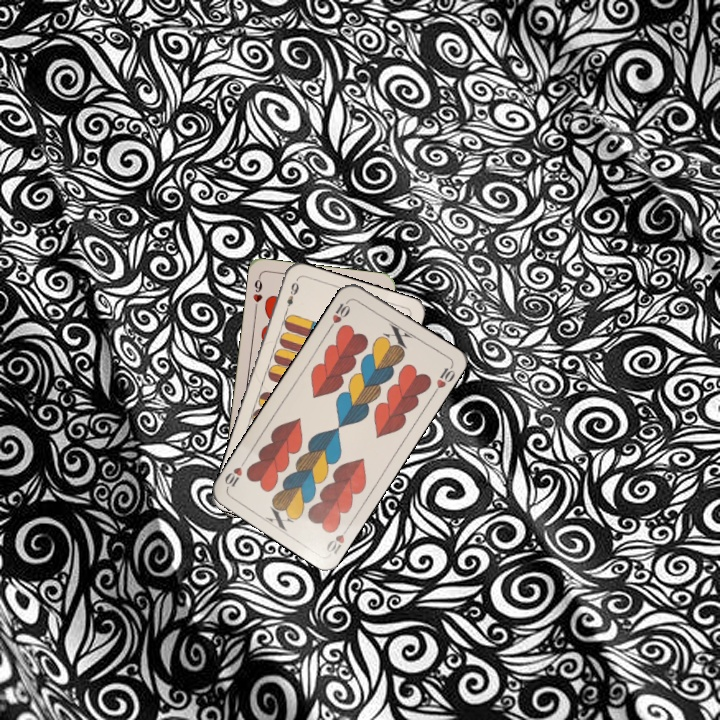E9: (281, 276, 301, 316)
H10: (322, 521, 353, 557), (325, 295, 353, 332)
H9: (249, 273, 265, 313)
